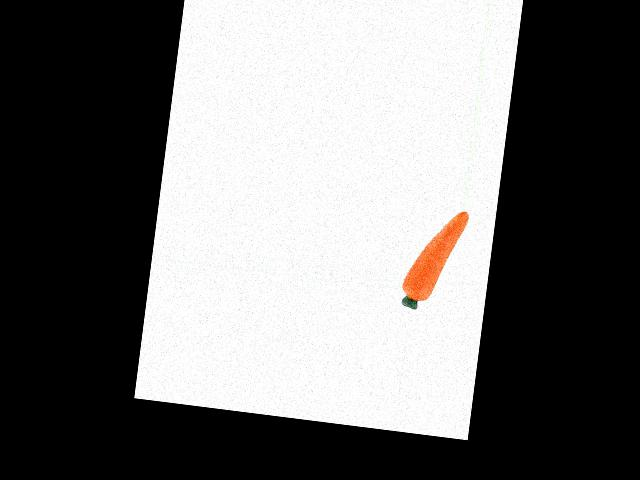carrot: (401, 205, 470, 306)
